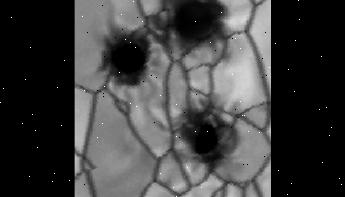good_void: (90, 0, 232, 94), (151, 95, 239, 168)
